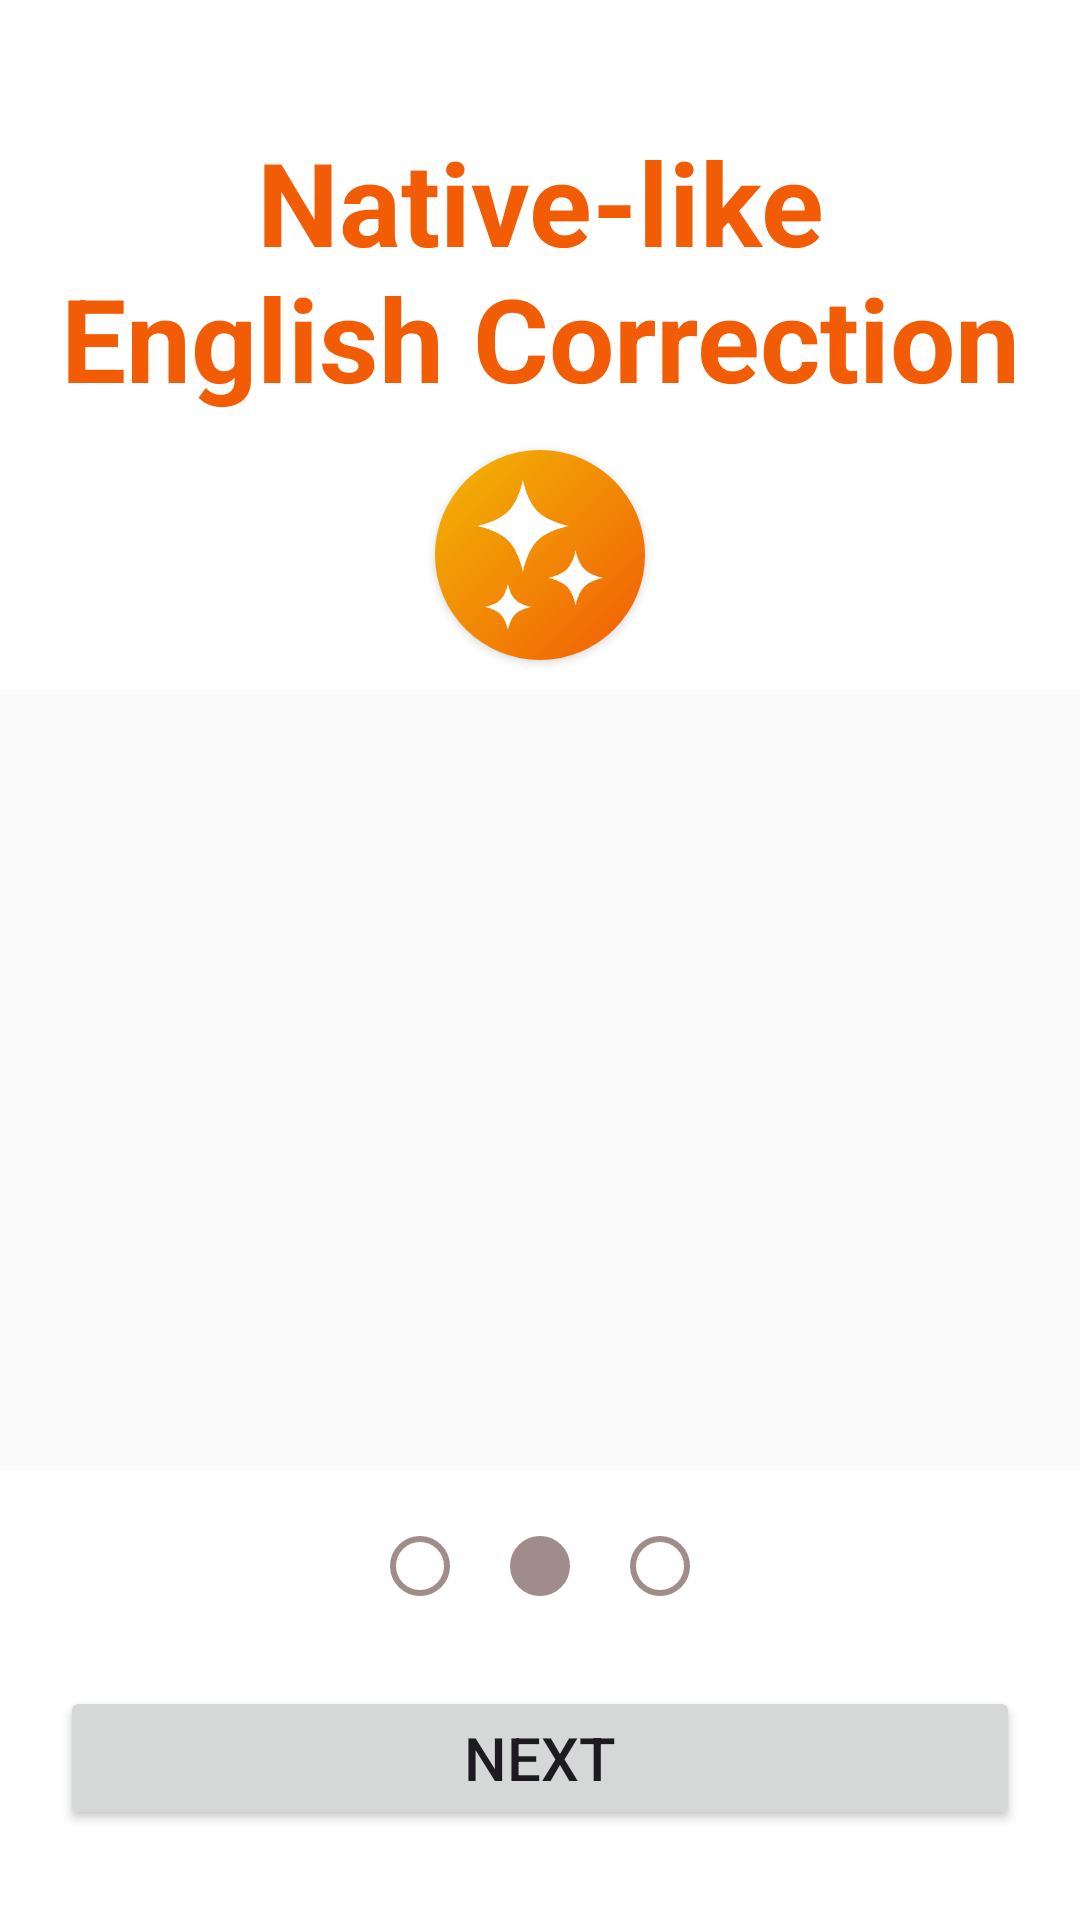

Screen size 1080 x 1920. Icon name, then its center in pixels as [x,y]:
shine: [540,555]
